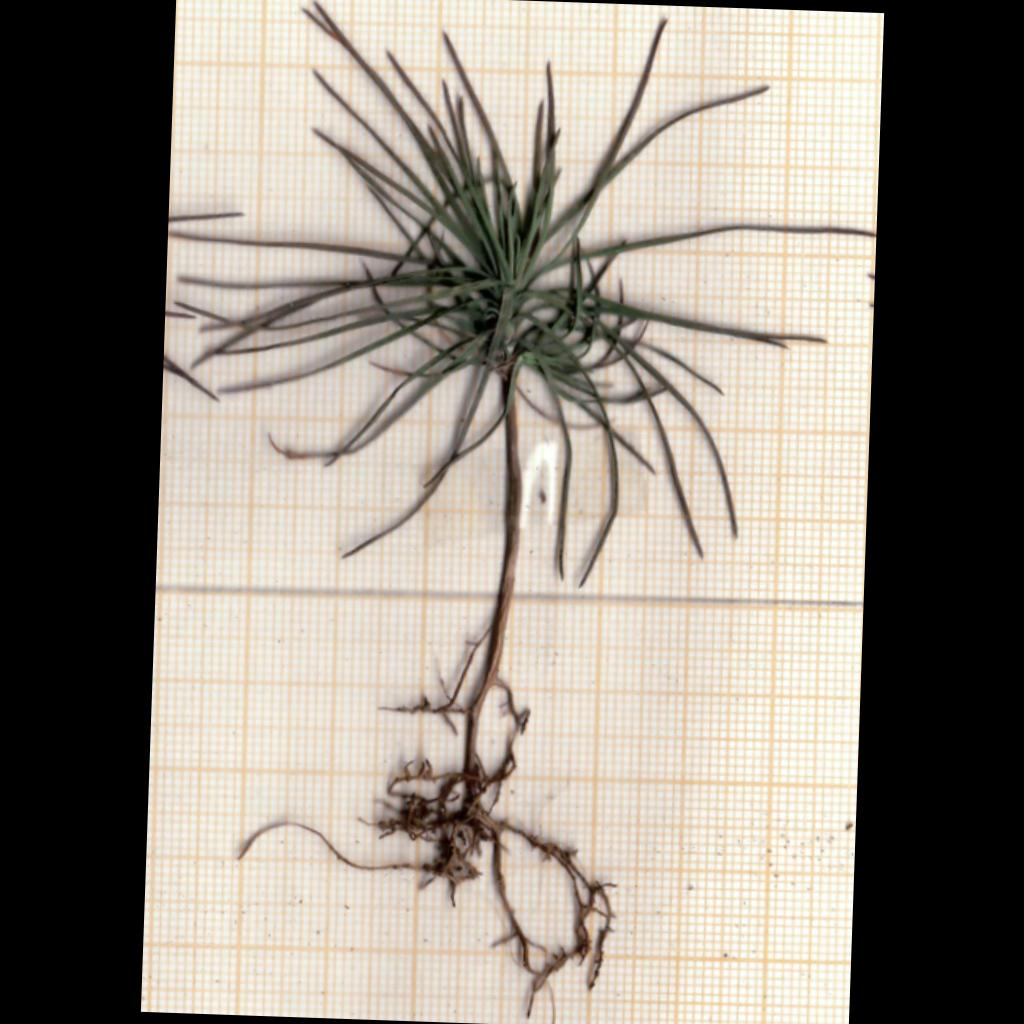flowerCedr: (197, 4, 872, 585)
rootCedr: (239, 650, 614, 1014)
stemCedr: (490, 406, 523, 677)
